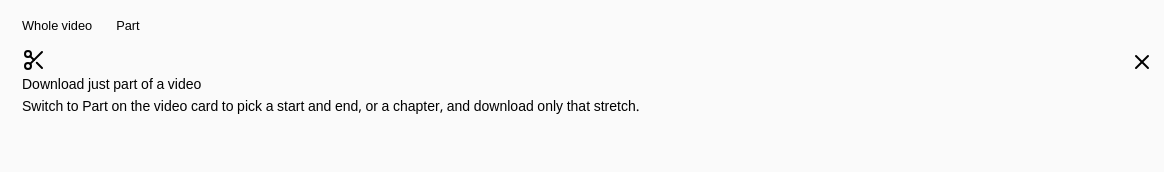
One-time Part of video callout › counts choosing Part as having seen it
This screenshot has width=1164, height=172.
Click the button with test id "video-part-part" at (128, 26), box top-left (106, 12), bottom-right (150, 40)
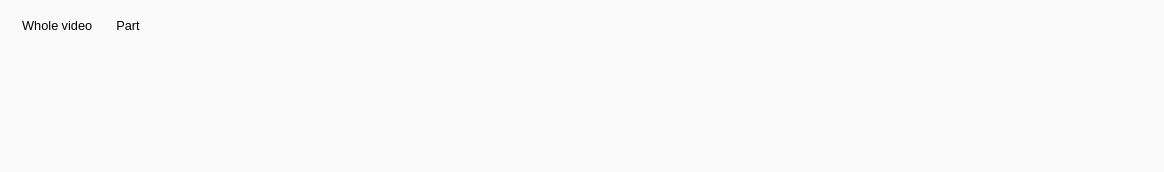
Expected: the message with test id "video-part-callout" is gone
